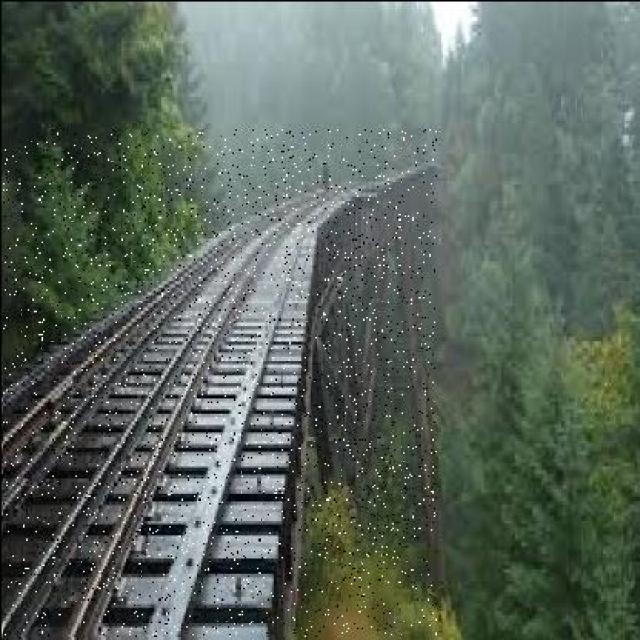rail: (3, 130, 436, 636)
